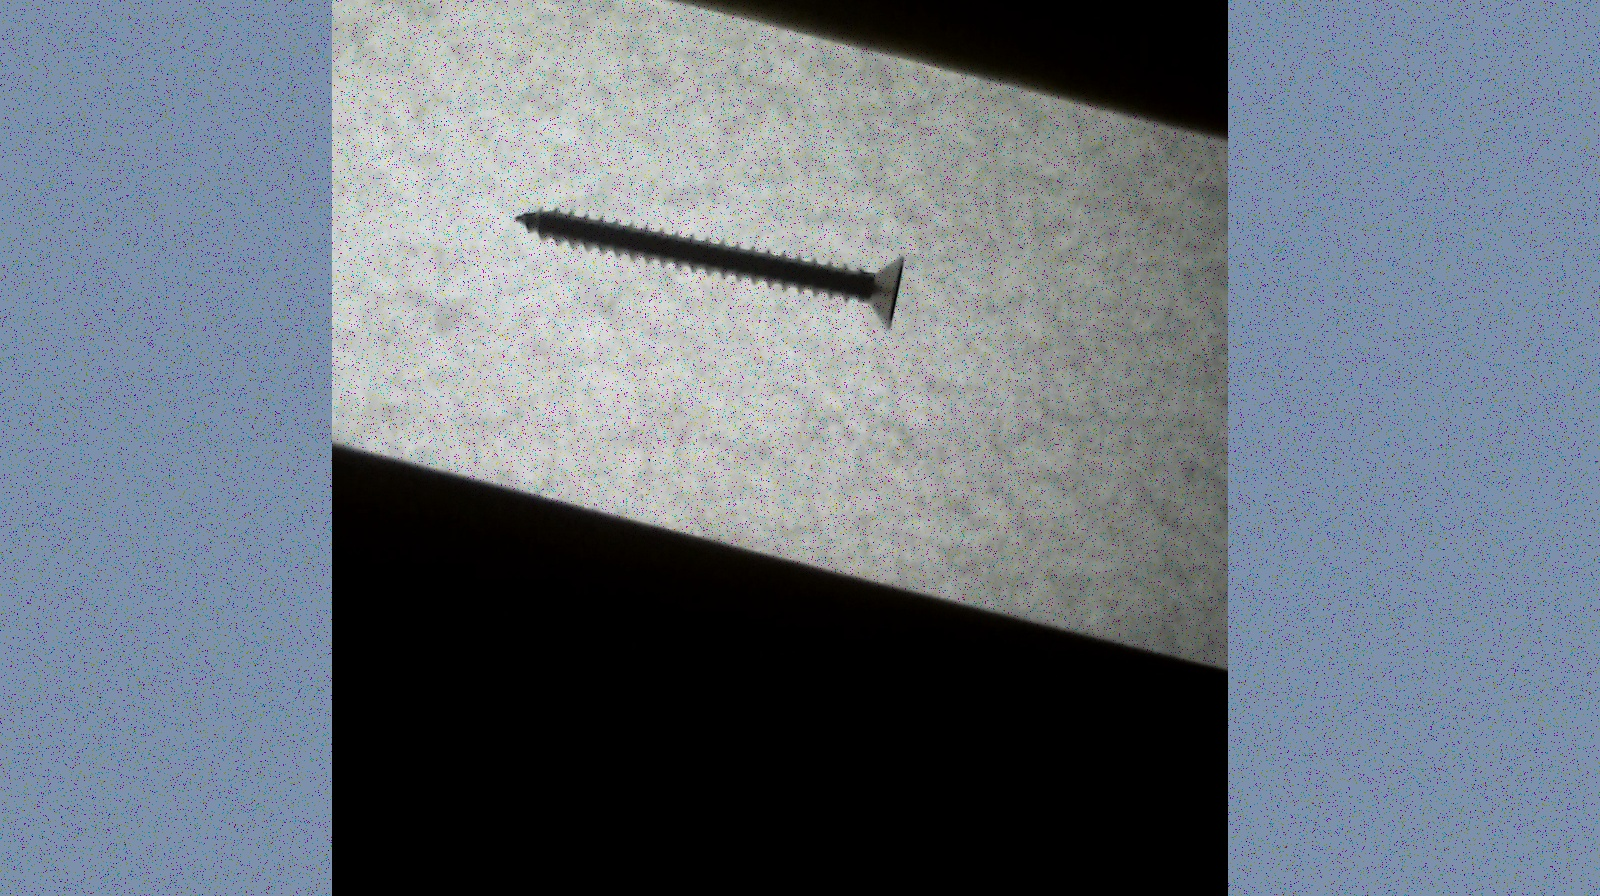S002: (513, 193, 918, 332)
